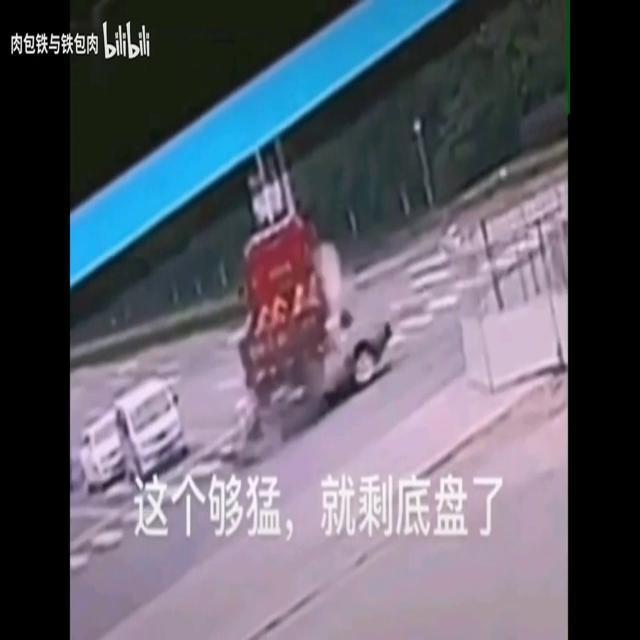accident: (233, 211, 397, 459)
non-accident: (79, 375, 189, 497)
